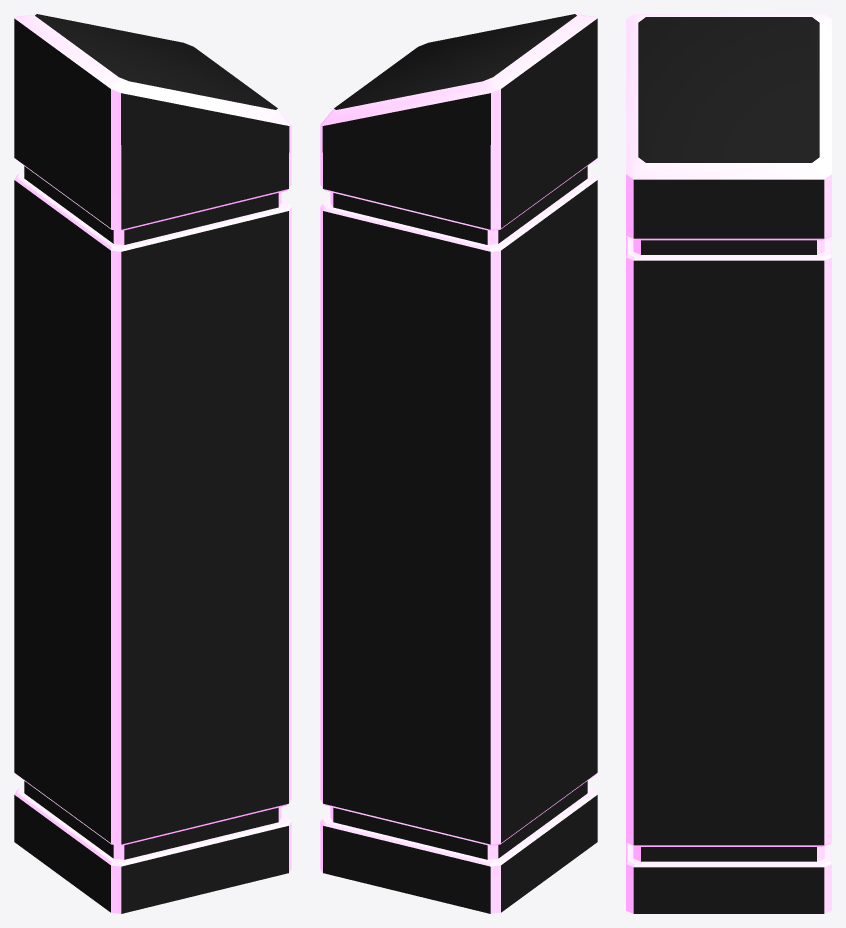
3 views of the same model, side by side, from view 1: azimuth 30°, elevation 25°; view 2: azimuth 150°, elevation 25°; view 3: azimuth 270°, elevation 25° (orthographic).
Visible parts, largest first — view 1: Box016; view 2: Box016; view 3: Box016.
Part boxes in pixels (x1,y1,x2,y2): Box016: (14, 14, 291, 913); Box016: (320, 14, 597, 913); Box016: (626, 14, 831, 913).
Size of the model in its own units: 381 by 1667 by 381.
